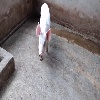heo: (34, 2, 55, 62)
